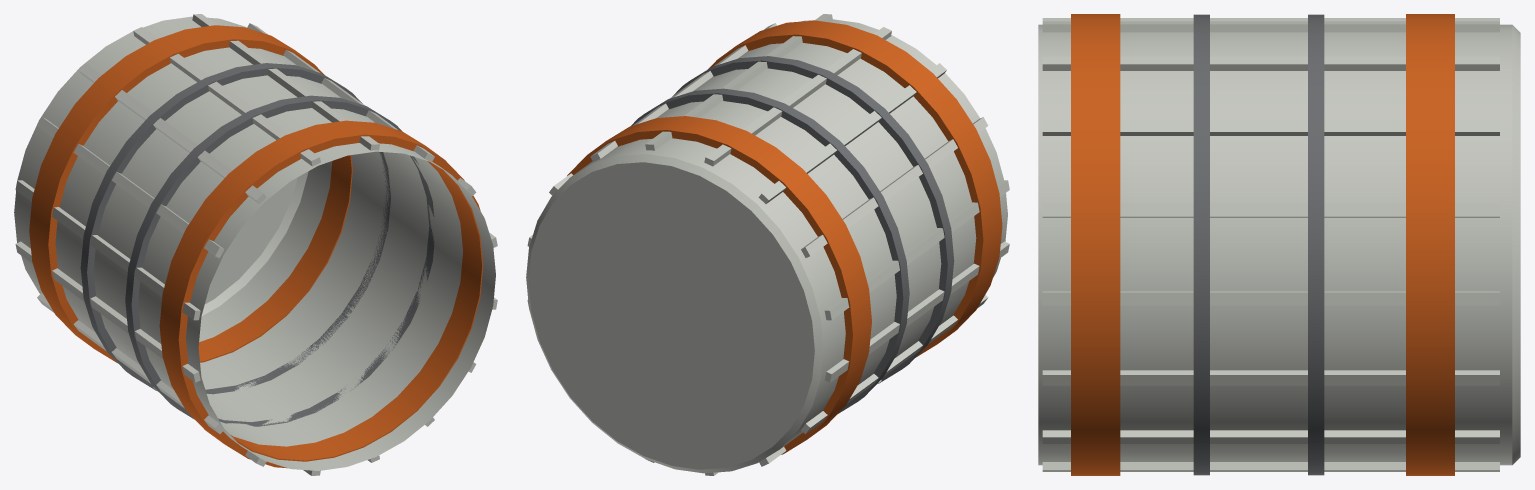
The model's file is u33_housing.obj.
3 renders of one model, left to right at view 1: azimuth 30°, elevation 25°; view 2: azimuth 150°, elevation 25°; view 3: azimuth 270°, elevation 25°, orthographic. The views are drawn at different scales.
Visible parts, largest first — view 1: u33_housing; view 2: u33_housing; view 3: u33_housing.
Part boxes in pixels (<box>): u33_housing: <box>14,14,497,475</box>; u33_housing: <box>526,14,1009,475</box>; u33_housing: <box>1038,14,1520,475</box>.
Bounding box in the file's own units: 2.83 × 2.83 × 2.95.
